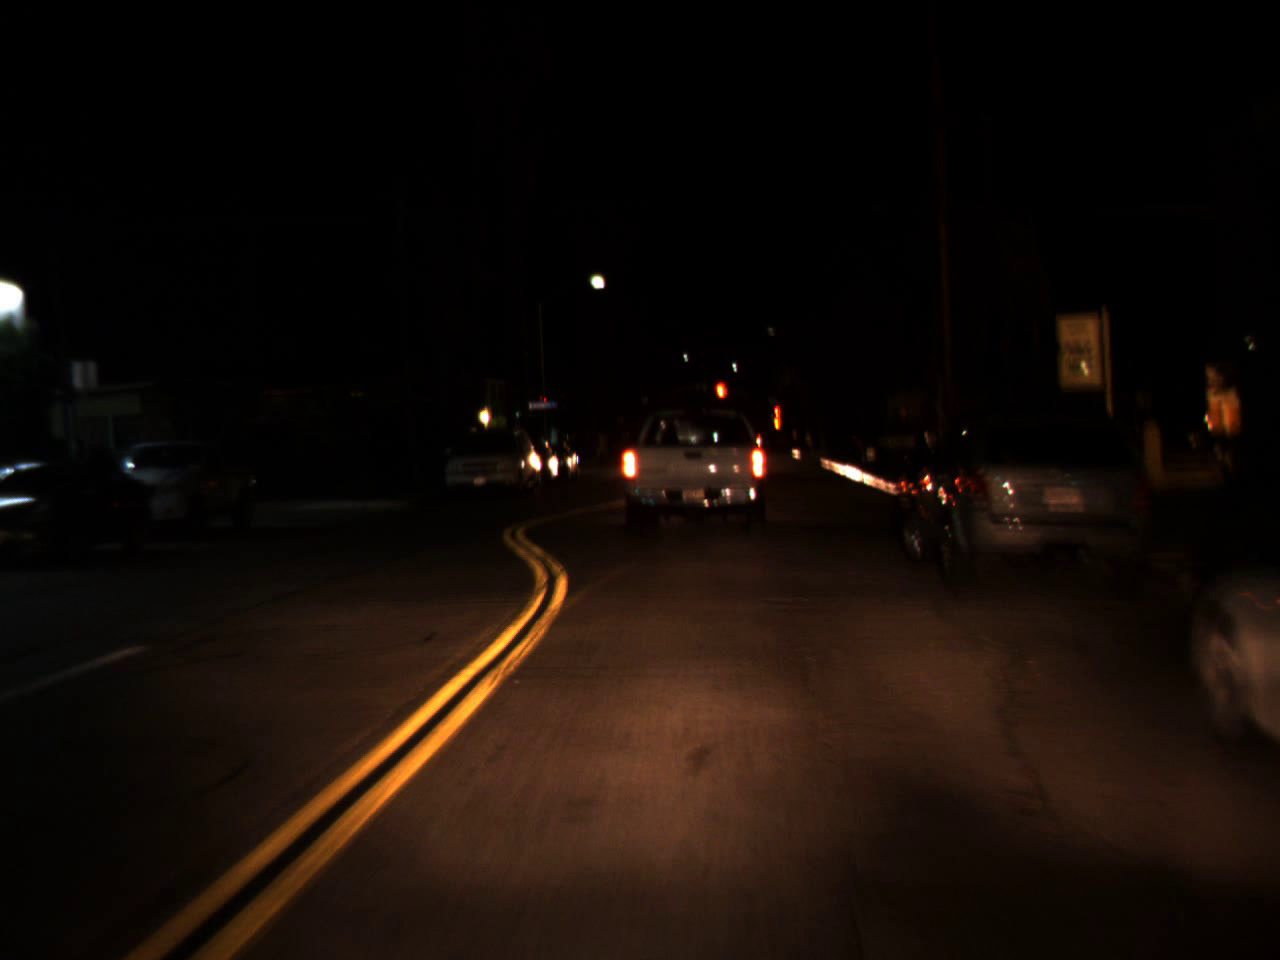stop: (714, 379, 727, 419), (769, 402, 782, 429)
